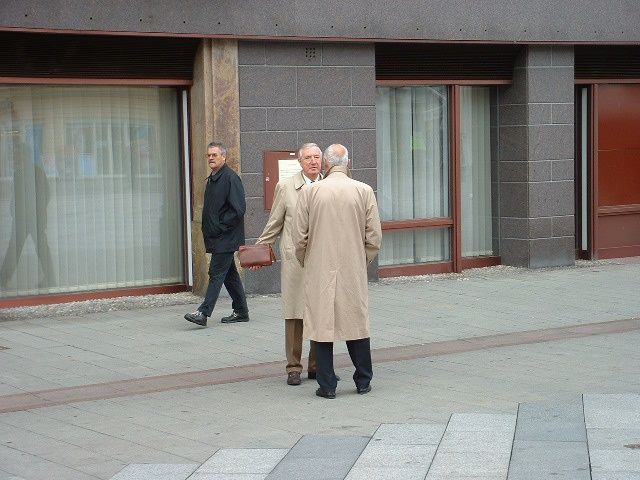person: (291, 138, 382, 396), (197, 141, 251, 322)
